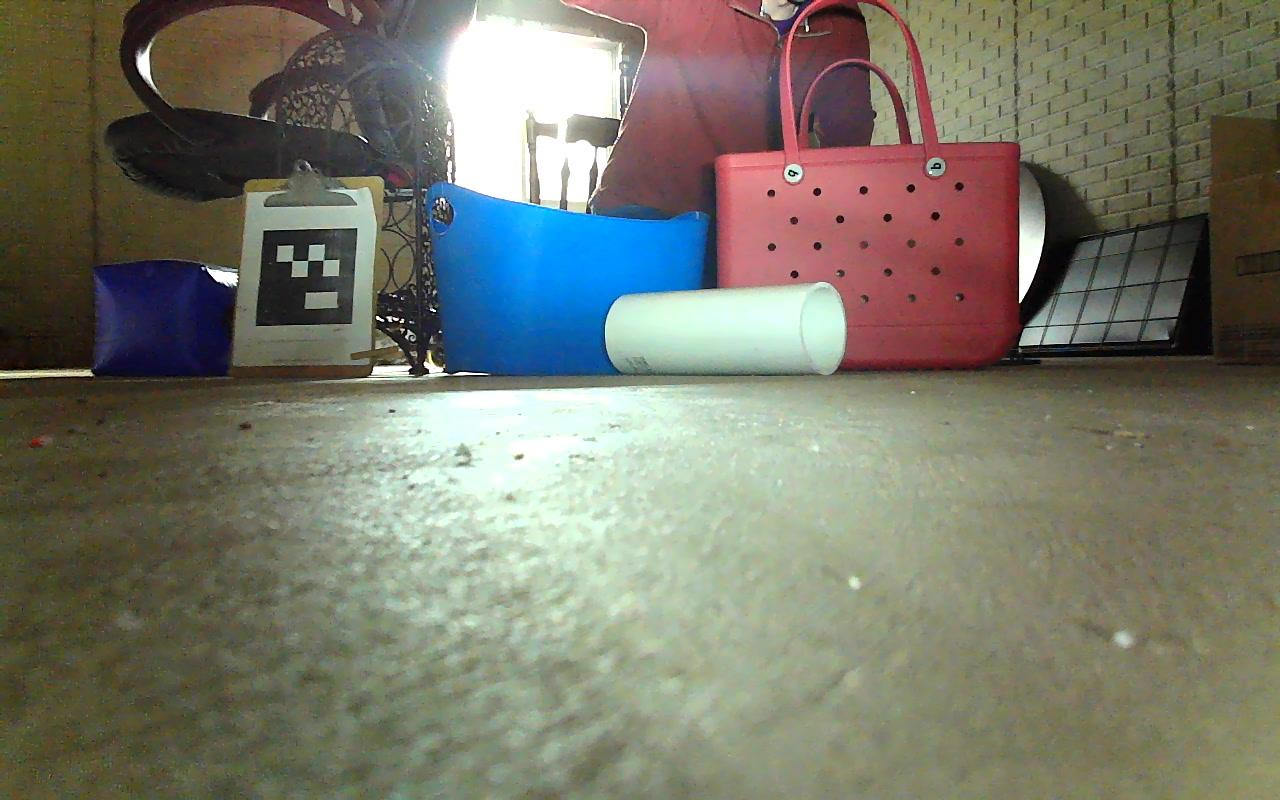coral: (605, 280, 847, 375)
